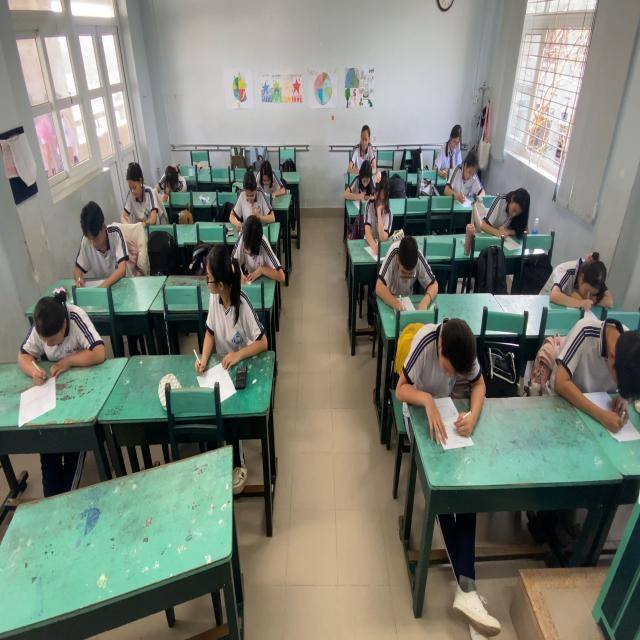cheating: (194, 248, 273, 363)
not_cheating: (392, 309, 491, 439), (563, 301, 636, 427), (24, 284, 102, 387), (378, 228, 441, 325), (478, 169, 540, 261), (546, 225, 610, 308), (75, 194, 131, 284), (232, 214, 287, 286), (120, 157, 164, 246), (363, 172, 398, 247), (447, 138, 488, 202), (237, 163, 273, 222), (348, 116, 382, 176), (159, 146, 188, 215), (343, 156, 379, 208), (255, 145, 289, 197), (432, 121, 466, 172)
